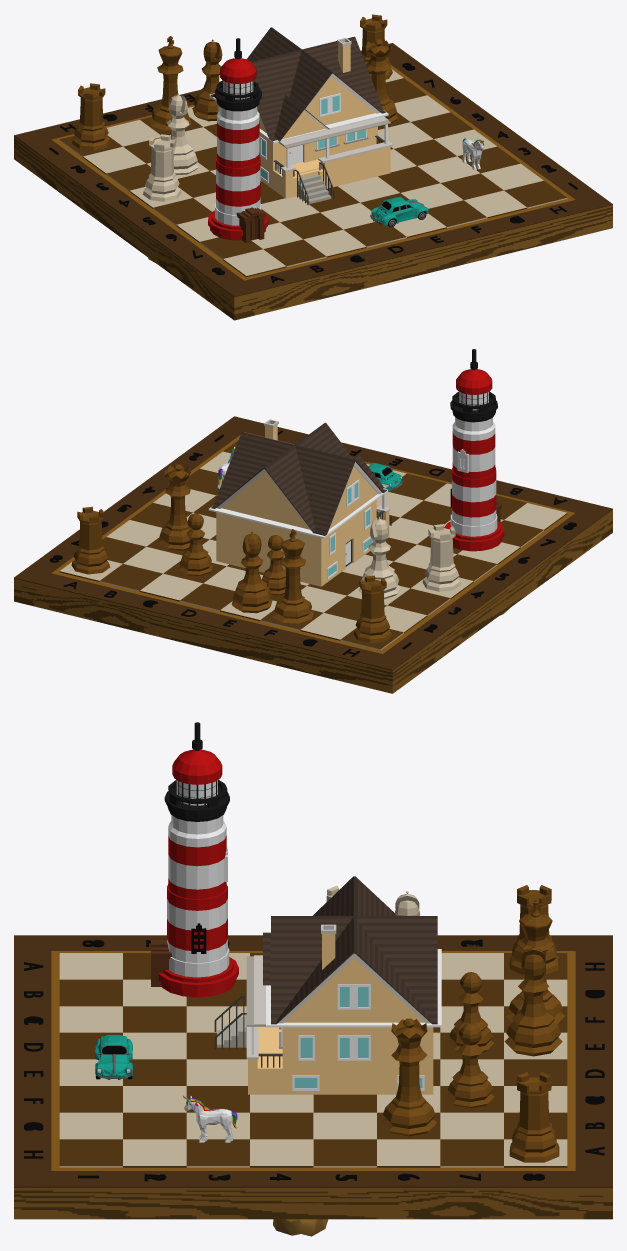
3 renders of one model, top to bottom at view 1: azimuth 30°, elevation 25°; view 2: azimuth 150°, elevation 25°; view 3: azimuth 270°, elevation 25°, orthographic. The views are drawn at different scales.
Parts seen in each view (by area): view 1: Cube.002, Cube.235, OBJRANDOM_LIGHTHOUSE, VEHICLES_VOLKSWAGEN, ANIMAL_UNICORNIO; view 2: Cube.002, Cube.235, OBJRANDOM_LIGHTHOUSE, VEHICLES_VOLKSWAGEN; view 3: Cube.002, Cube.235, OBJRANDOM_LIGHTHOUSE, VEHICLES_VOLKSWAGEN, ANIMAL_UNICORNIO, UNDERGROUND_T_REX_BONES.
Boxes of the visible parts, x1=… form: Cube.002: x1=14, y1=14, x2=612, y2=320; Cube.235: x1=209, y1=27, x2=393, y2=205; OBJRANDOM_LIGHTHOUSE: x1=208, y1=38, x2=268, y2=243; VEHICLES_VOLKSWAGEN: x1=370, y1=196, x2=428, y2=227; ANIMAL_UNICORNIO: x1=462, y1=138, x2=483, y2=170; Cube.002: x1=14, y1=416, x2=612, y2=693; Cube.235: x1=208, y1=419, x2=391, y2=586; OBJRANDOM_LIGHTHOUSE: x1=444, y1=349, x2=504, y2=551; VEHICLES_VOLKSWAGEN: x1=368, y1=462, x2=403, y2=491; Cube.002: x1=14, y1=885, x2=612, y2=1219; Cube.235: x1=214, y1=876, x2=441, y2=1094; OBJRANDOM_LIGHTHOUSE: x1=151, y1=722, x2=238, y2=997; VEHICLES_VOLKSWAGEN: x1=95, y1=1035, x2=132, y2=1079; ANIMAL_UNICORNIO: x1=182, y1=1095, x2=237, y2=1142; UNDERGROUND_T_REX_BONES: x1=273, y1=1219, x2=328, y2=1236.
Size of the model in its own units: 3981 by 2349 by 4012.
Materials: 46 (2 with a texture image).
